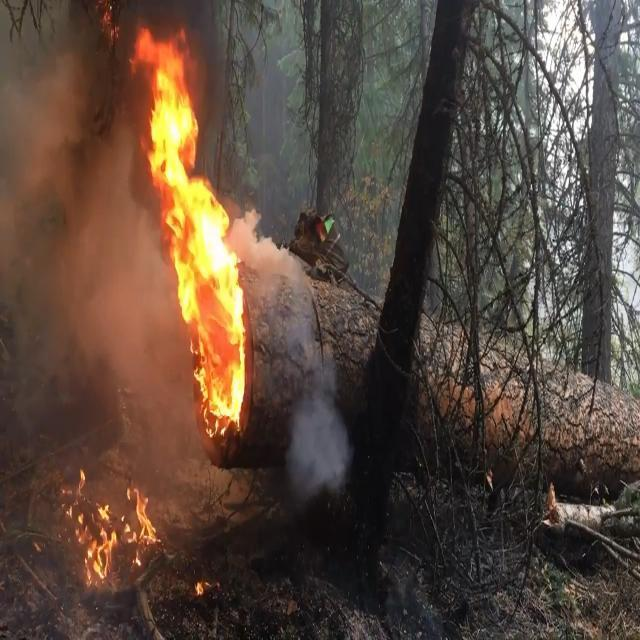Fire: (130, 16, 246, 446)
